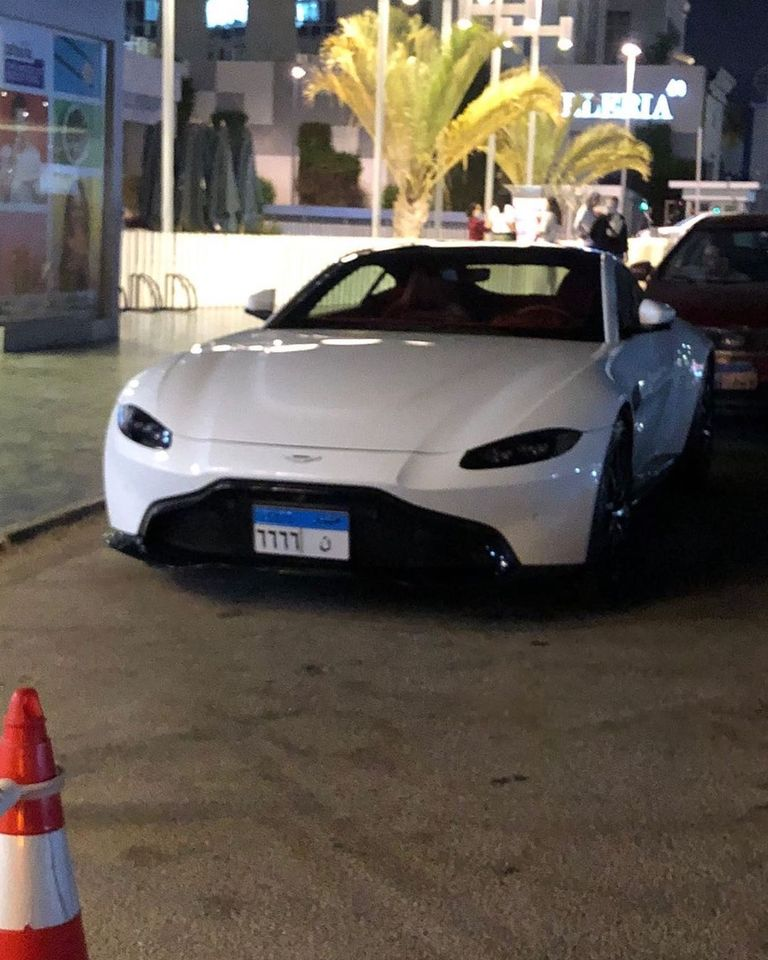carpl: (253, 521, 346, 555)
